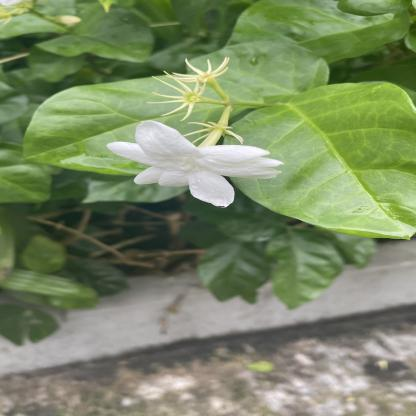Melati: (81, 91, 291, 229)
